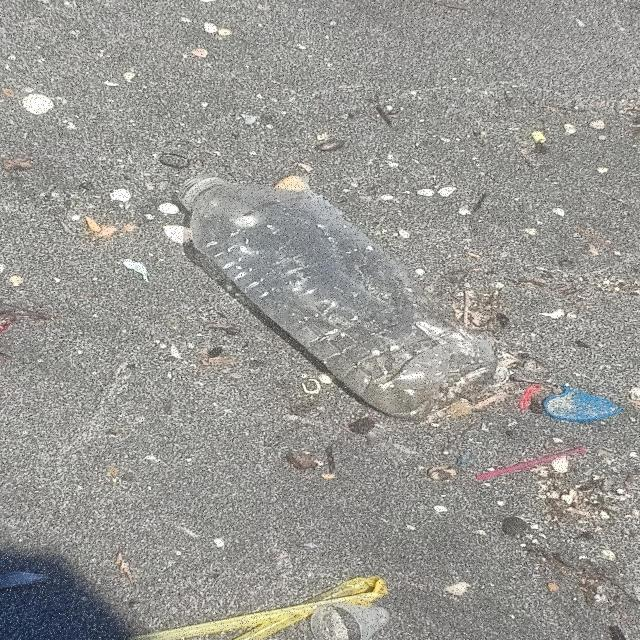plastic_waste: (178, 172, 501, 424), (129, 575, 391, 640), (475, 447, 589, 483), (310, 603, 392, 640)
